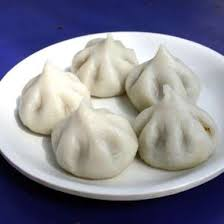modak: (133, 84, 222, 168), (52, 96, 142, 175), (62, 27, 151, 100), (13, 60, 95, 125), (122, 46, 210, 105)
